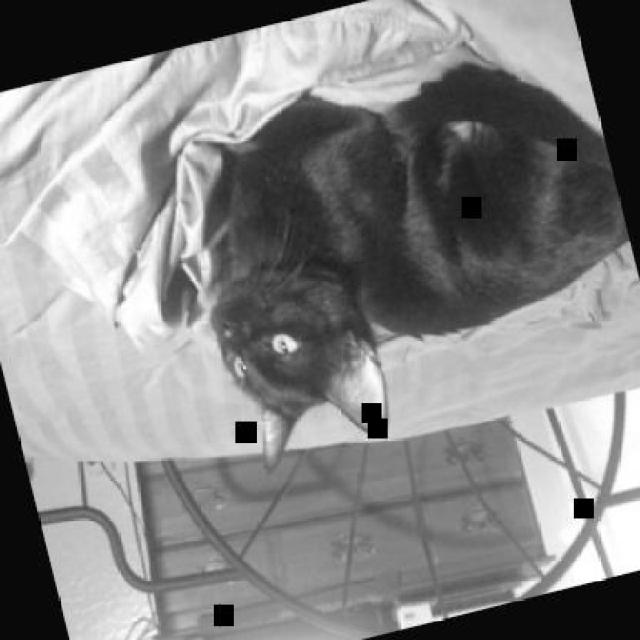cat: (163, 34, 639, 481)
